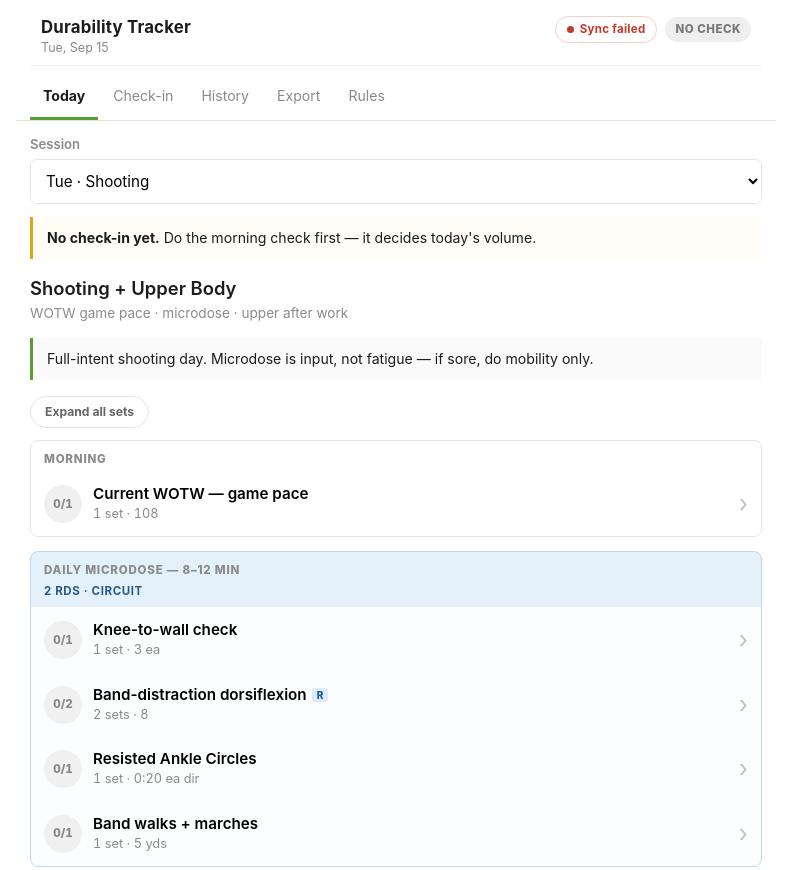
Test: session overview › summarises the prescription on each row
Select "Mon · Lower A" in the dropdown labelled "Session": [396, 181] box [30, 159, 762, 204]
(page scrolled)
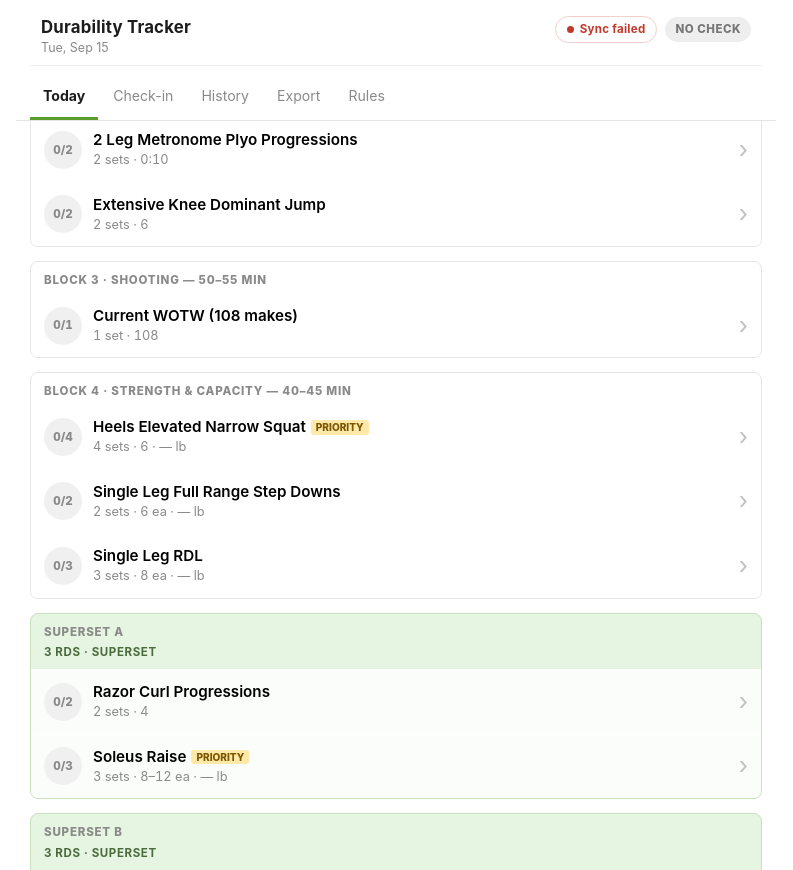
Result: the text with class "ometa" shows "4 sets · 6" at [93, 439, 186, 454]
